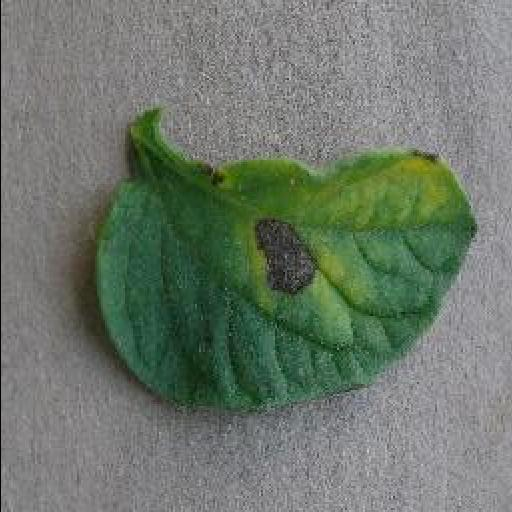disease_tomato: (90, 112, 482, 418)
